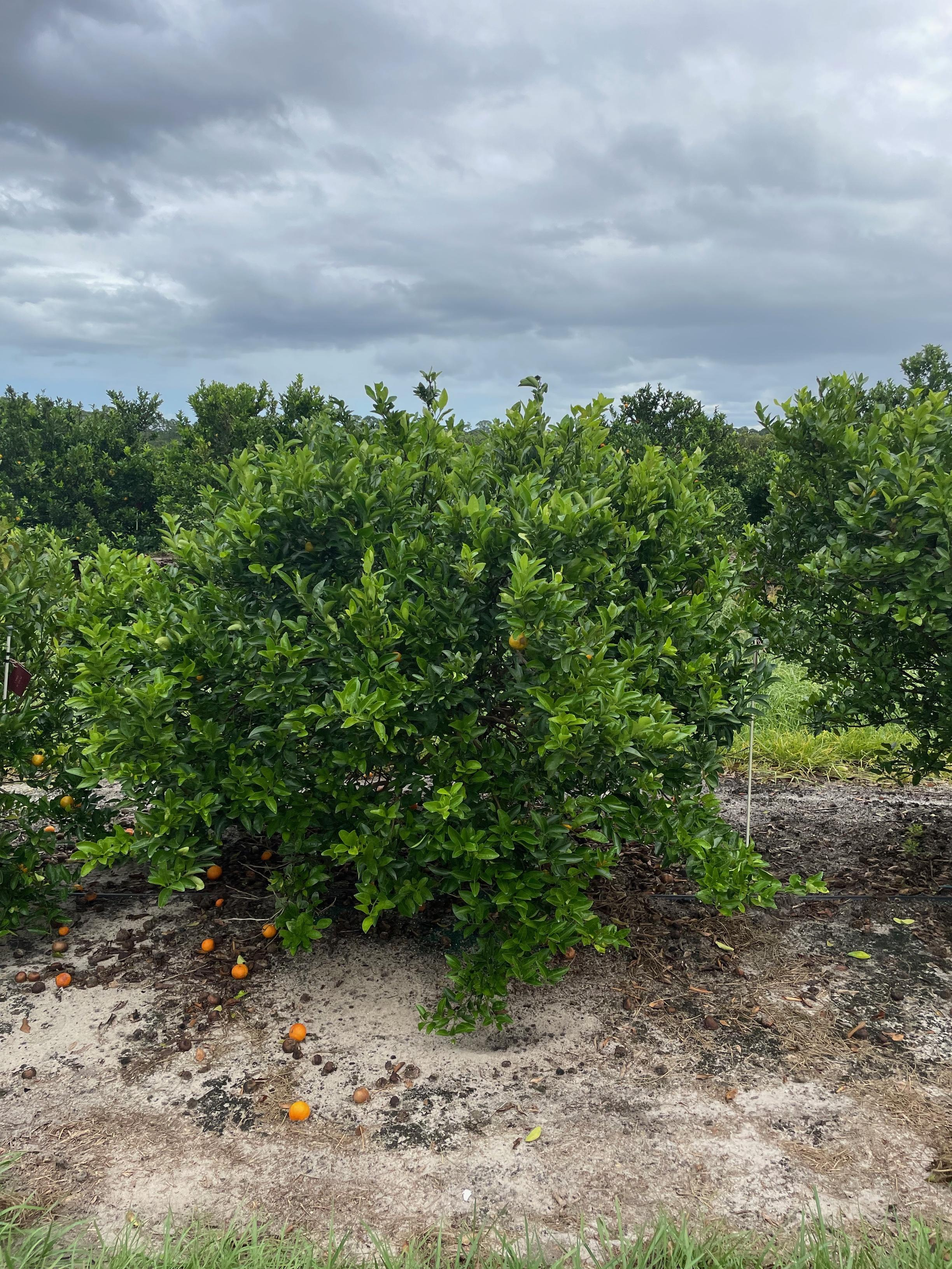fruit_on_ground: (506, 628, 533, 652), (59, 793, 78, 811), (28, 749, 47, 767), (387, 649, 404, 665), (16, 860, 32, 874), (123, 823, 137, 838), (44, 822, 58, 835)
fruit_on_tree: (287, 1098, 312, 1122), (287, 1022, 308, 1043), (351, 1084, 371, 1105), (205, 863, 224, 882), (231, 961, 250, 980), (53, 970, 72, 988), (260, 921, 278, 939), (701, 1014, 721, 1030), (200, 936, 216, 953), (561, 944, 577, 960), (259, 848, 275, 862), (52, 938, 68, 952), (82, 890, 99, 903), (26, 970, 41, 983), (205, 992, 220, 1005), (14, 970, 28, 982), (56, 924, 70, 936), (70, 880, 83, 892), (214, 895, 226, 908)
